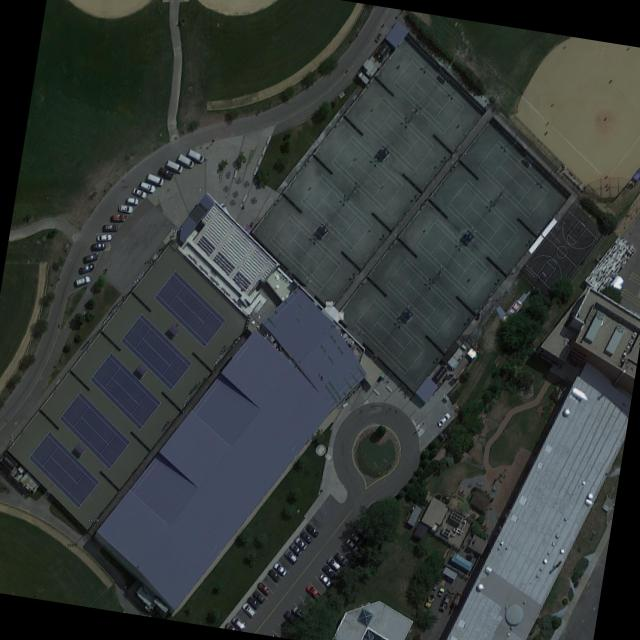large-vehicle: (177, 152, 196, 169), (187, 148, 206, 163), (146, 172, 165, 186), (166, 159, 184, 173)
small-vehicle: (322, 562, 339, 579), (256, 579, 272, 597), (306, 582, 322, 600), (231, 615, 247, 631), (273, 560, 288, 577), (345, 536, 360, 553), (335, 550, 350, 567), (242, 601, 257, 617), (318, 572, 333, 588), (246, 594, 261, 610), (158, 166, 175, 180), (284, 548, 299, 563), (300, 529, 315, 544), (267, 567, 282, 582), (252, 589, 267, 604), (293, 604, 307, 620), (140, 180, 157, 193), (327, 556, 342, 570), (295, 535, 309, 550), (438, 411, 452, 426), (306, 523, 321, 537), (284, 609, 297, 625), (132, 186, 148, 199), (290, 542, 304, 556), (358, 522, 371, 537), (76, 274, 92, 286), (79, 261, 95, 273), (351, 531, 363, 544), (85, 251, 99, 262), (119, 203, 134, 213), (113, 212, 127, 221), (93, 241, 107, 250), (97, 233, 112, 241), (127, 196, 140, 205), (104, 223, 118, 231)
